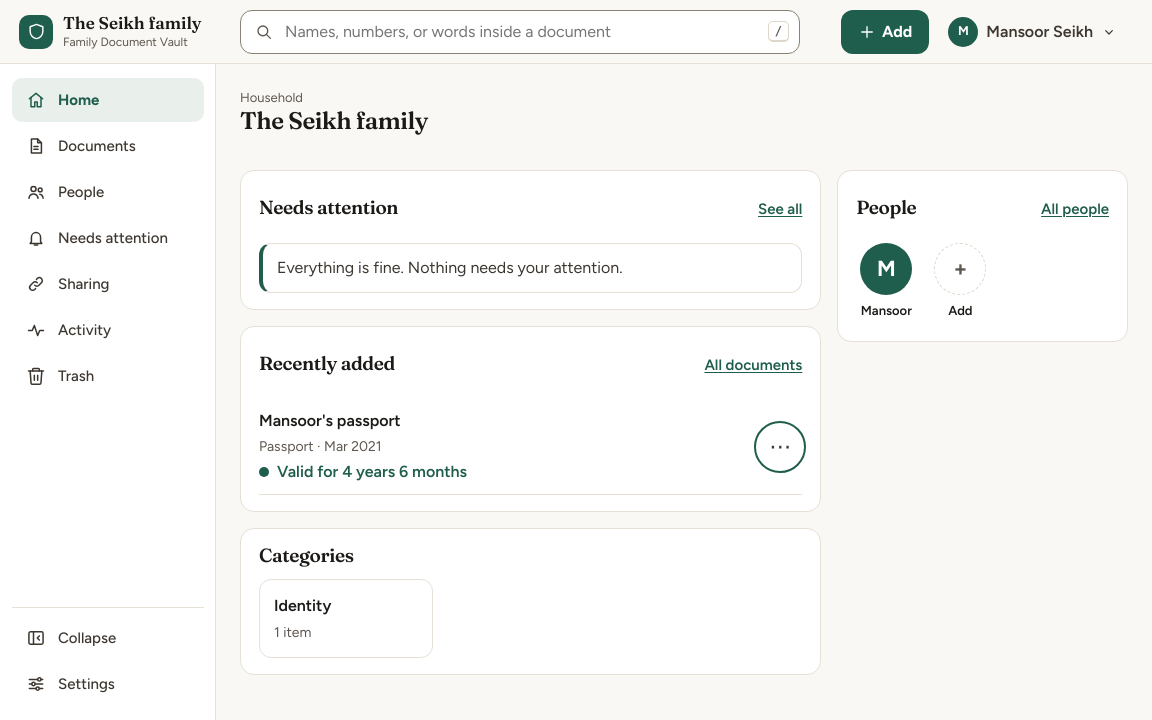
Test: quick actions on every document (5.4) › a stale etag reloads and says so
This screenshot has width=1152, height=720.
Click the button named "Actions for “Mansoor's passport”": (780, 447) top-left (758, 425), bottom-right (802, 469)
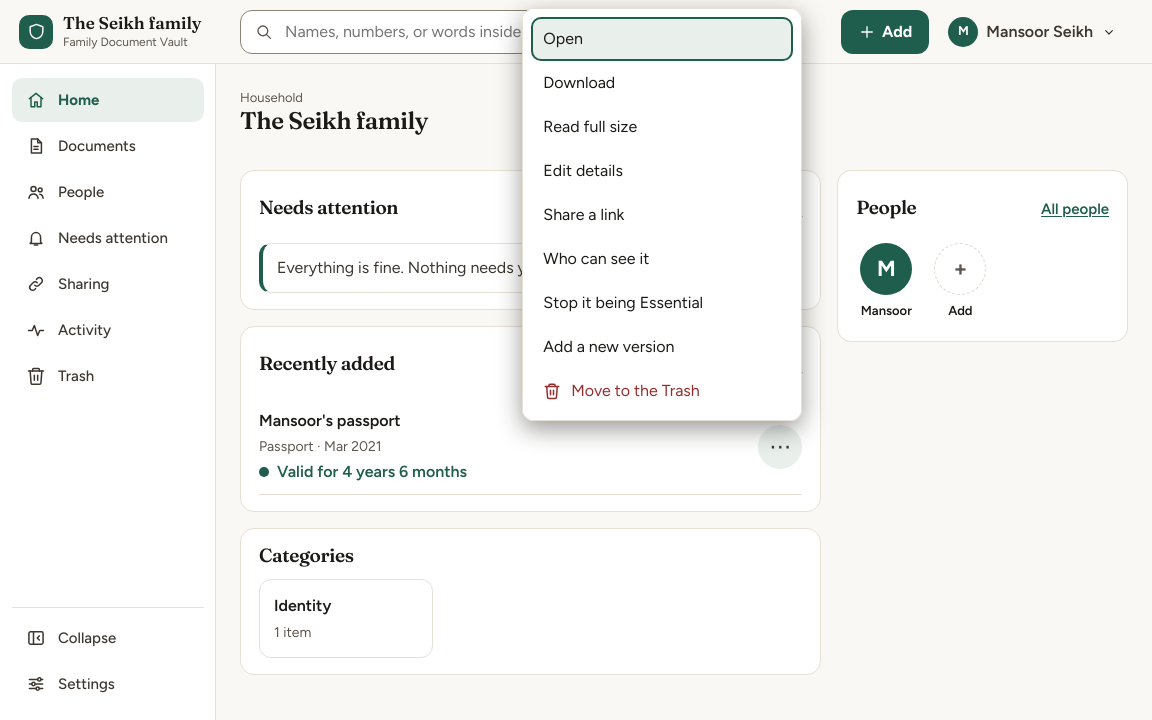
Click the menu item "Stop it being Essential": (662, 303) top-left (531, 281), bottom-right (793, 325)
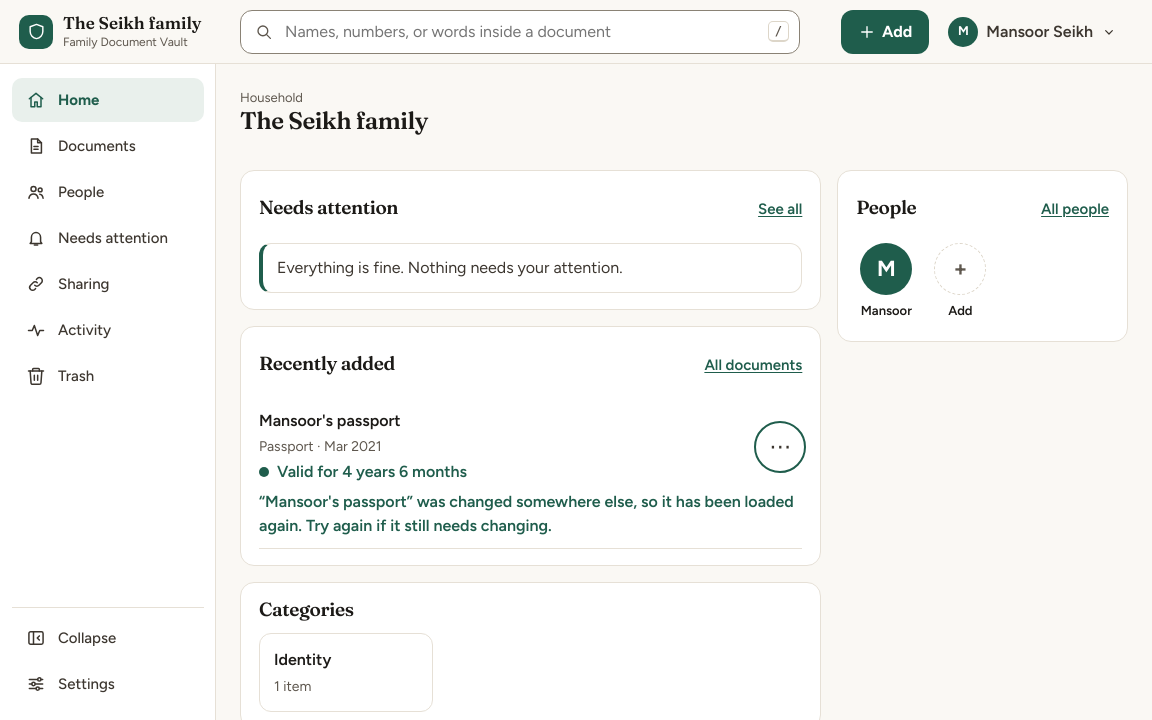
Result: the text "was changed somewhere else, so it has been loaded again" is shown at top-left (259, 492), bottom-right (794, 535)
Click the button named "Actions for “Mansoor's passport”": (780, 447) top-left (758, 425), bottom-right (802, 469)
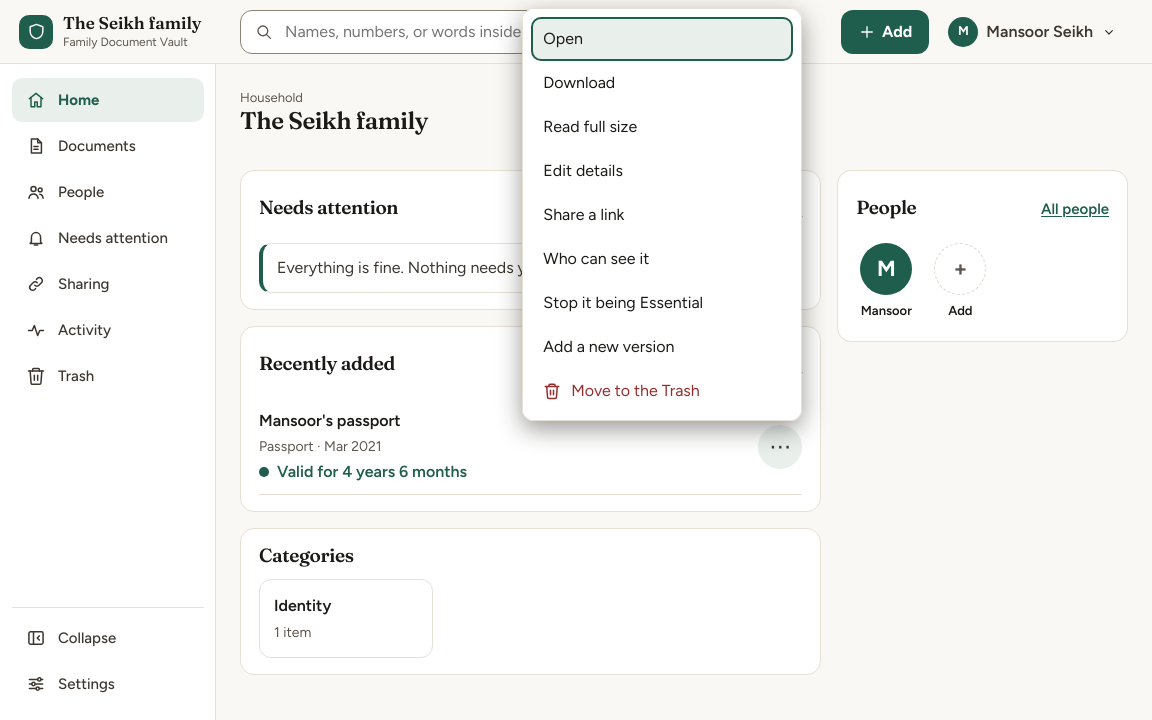
Click the menu item "Stop it being Essential": (662, 303) top-left (531, 281), bottom-right (793, 325)
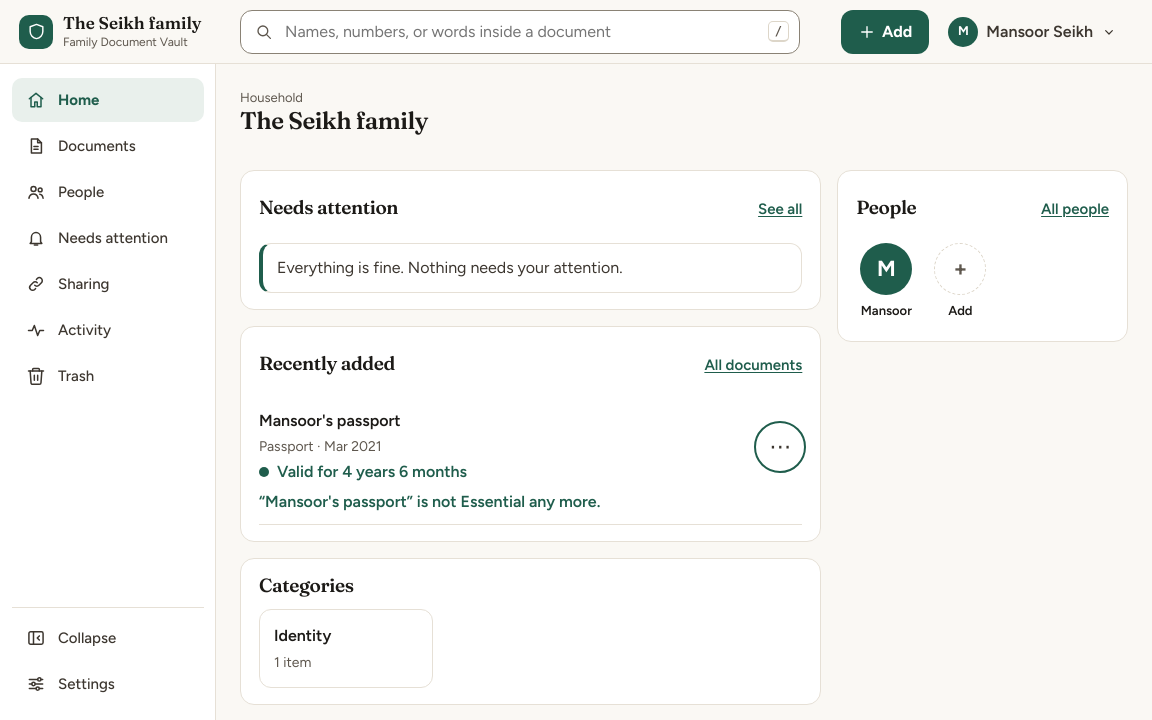
Result: the text "“Mansoor's passport” is not Essential any more." is shown at top-left (259, 492), bottom-right (600, 511)
